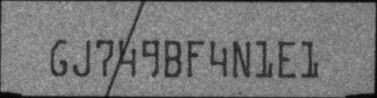1: (254, 39, 275, 79), (300, 40, 319, 79)
4: (208, 39, 228, 77), (118, 38, 135, 76)
7: (96, 38, 114, 77)
9: (141, 38, 159, 76)
B: (163, 38, 183, 78)
E: (278, 38, 297, 78)
F: (186, 39, 206, 78)
G: (50, 38, 68, 76)
J: (73, 37, 91, 77)
N: (231, 38, 249, 78)
